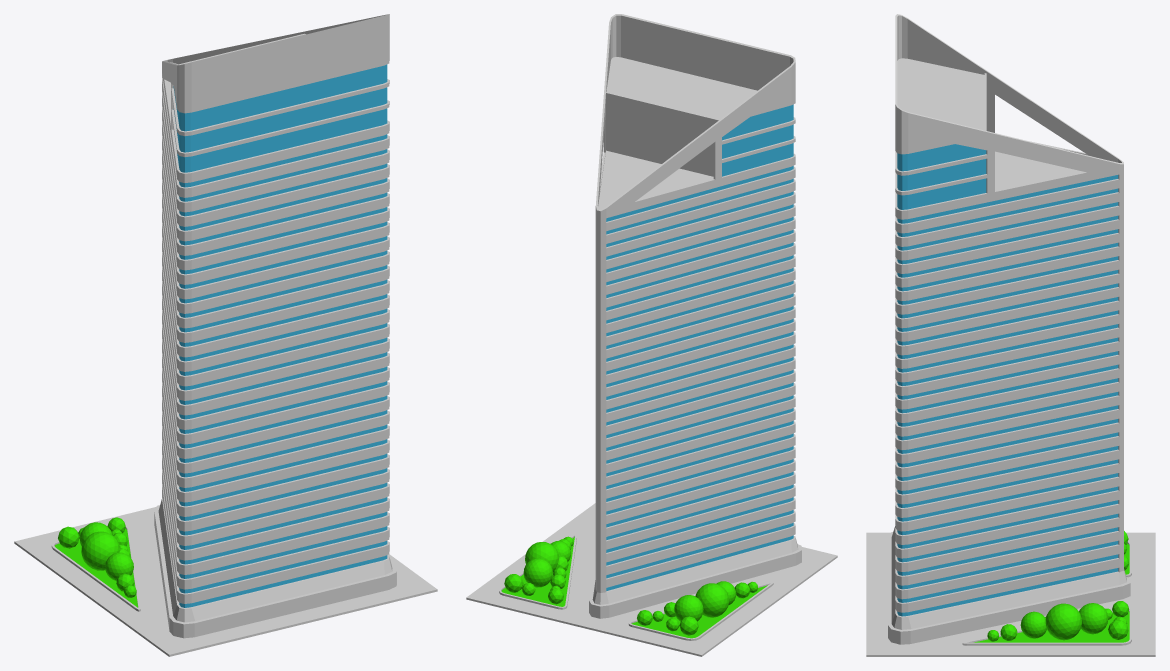
Rendered from Chroma Skyscraper Q.fbx.
3 renders of one model, left to right at view 1: azimuth 30°, elevation 25°; view 2: azimuth 150°, elevation 25°; view 3: azimuth 270°, elevation 25°, orthographic. The views are drawn at different scales.
Visible parts, largest first — view 1: Cylinder, Ground; view 2: Cylinder, Ground; view 3: Cylinder, Ground.
Part boxes in pixels (x1,y1,x2,y2): Cylinder: (154, 14, 396, 638); Ground: (14, 507, 437, 656); Cylinder: (589, 14, 801, 618); Ground: (466, 503, 837, 656); Cylinder: (888, 14, 1130, 644); Ground: (866, 531, 1155, 656).
Size of the model in its own units: 2000 by 4088 by 2000.
